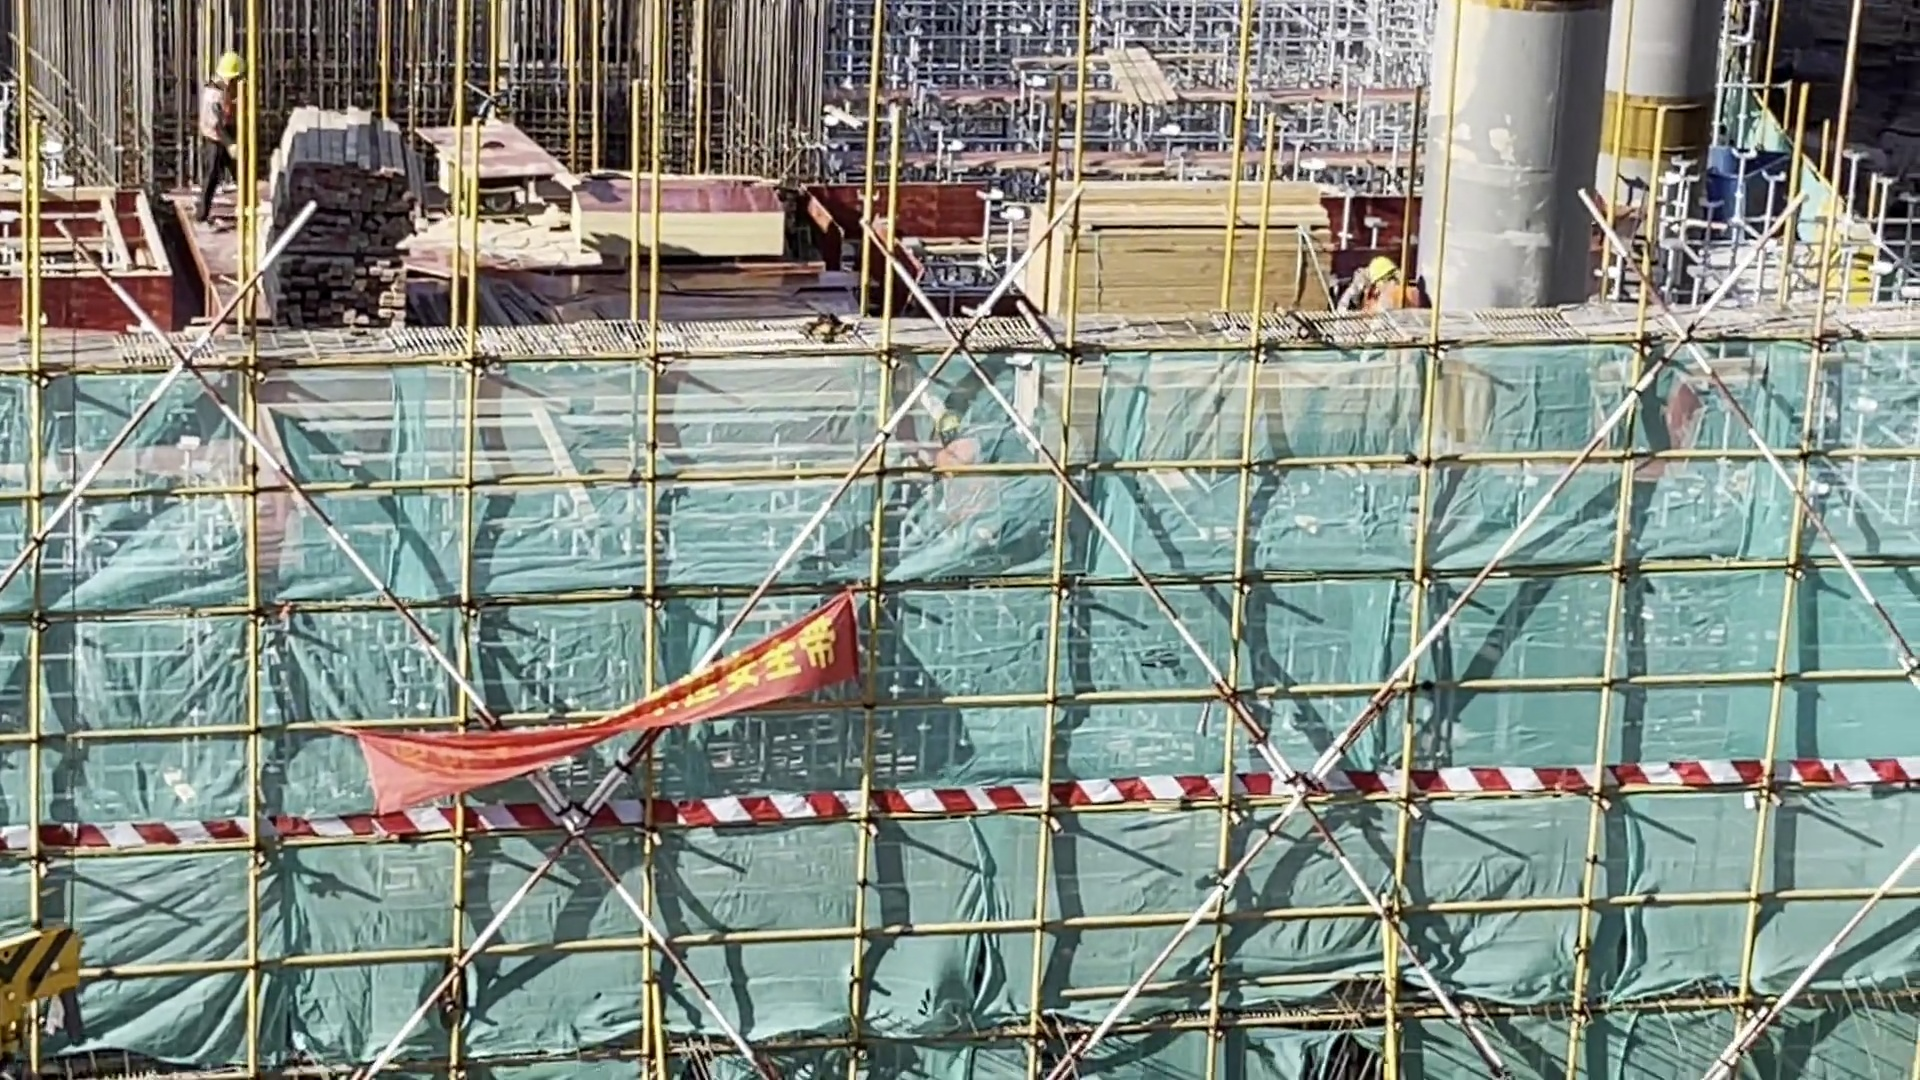cutter: (462, 127, 520, 160)
helmet: (200, 45, 247, 85), (1370, 253, 1410, 286)
hook: (2, 906, 105, 1060)
person: (187, 46, 260, 230), (1330, 246, 1425, 314)
slogan: (349, 583, 870, 837)
wood: (1008, 172, 1338, 324), (253, 99, 423, 339)
